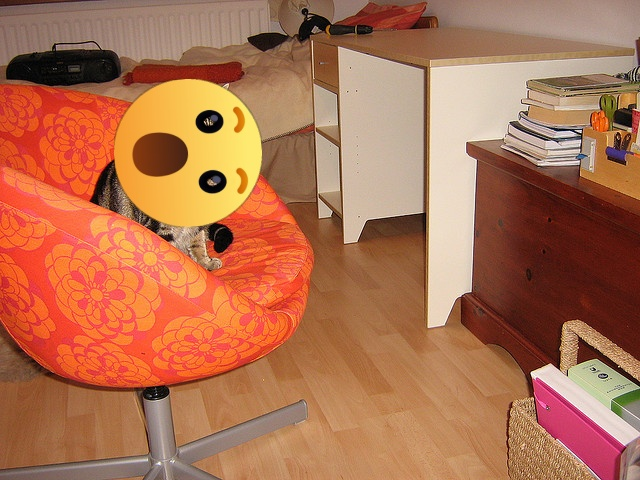wow: (114, 79, 262, 227)
